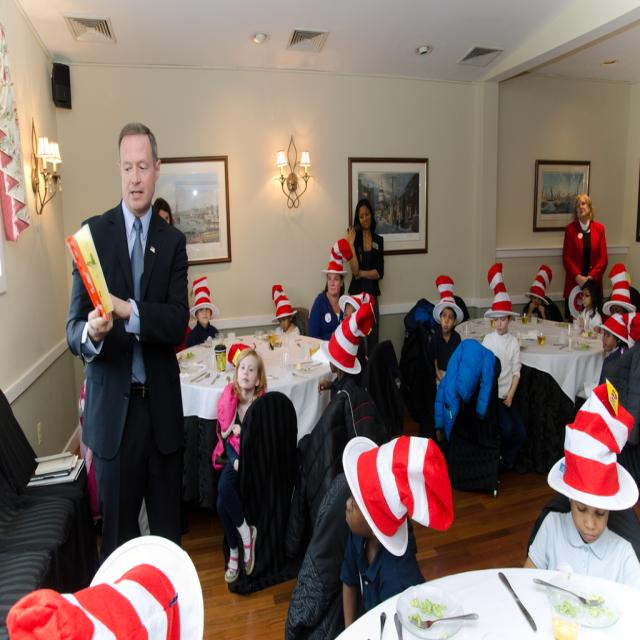Hat: (6, 534, 203, 639), (340, 433, 453, 556), (544, 377, 640, 512), (318, 301, 372, 373), (484, 262, 520, 321), (602, 260, 636, 319), (431, 277, 464, 329), (593, 312, 639, 348), (190, 274, 219, 322), (321, 238, 352, 277), (525, 264, 549, 311), (272, 283, 296, 324), (225, 338, 256, 369), (566, 282, 582, 316)
